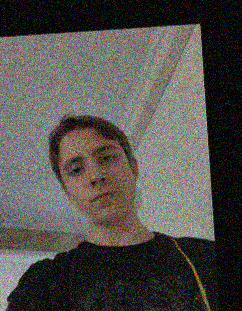without_mask: (60, 141, 136, 227)
